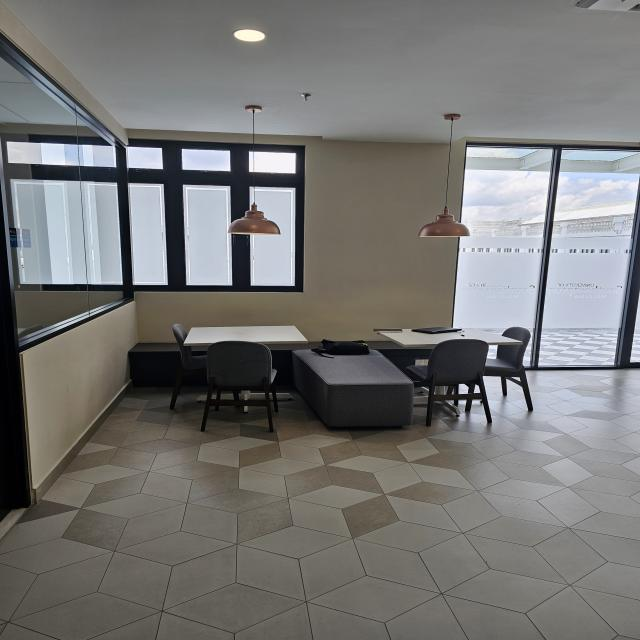door: (536, 140, 639, 376)
footpath: (90, 437, 640, 640)
obstacle: (161, 320, 280, 434), (290, 344, 415, 430), (417, 341, 494, 427)
